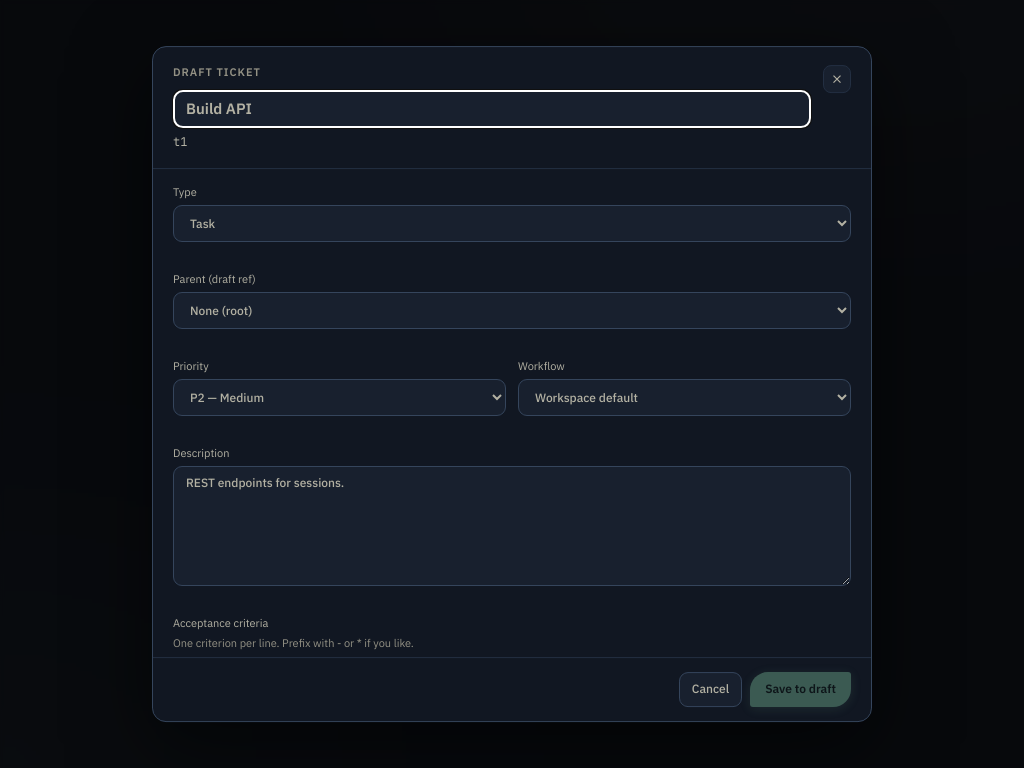
Test: TicketStudioDraftModal workflow picker › enables save when only the workflow changed
The image size is (1024, 768).
Expected: the button "Save to draft" is disabled, [750,672,851,707]
Select "Extended TDD" in the dropdown labelled "Workflow" at (684, 398), box [518,379,851,416]
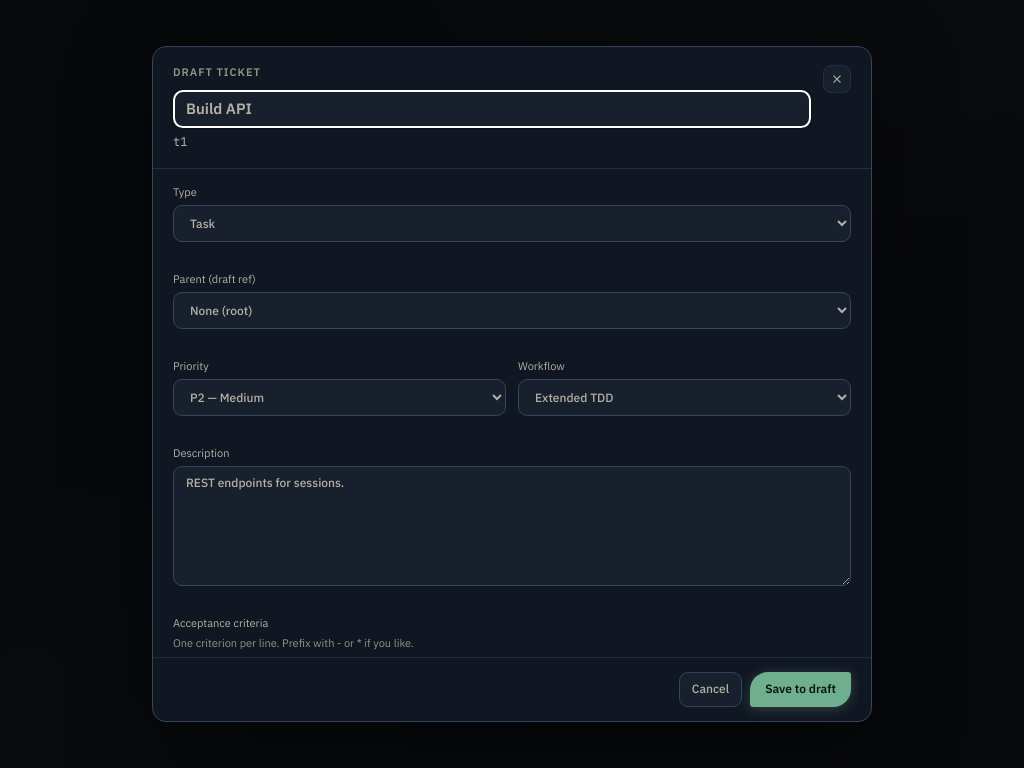
Expected: the button "Save to draft" is enabled, [750,672,851,707]
